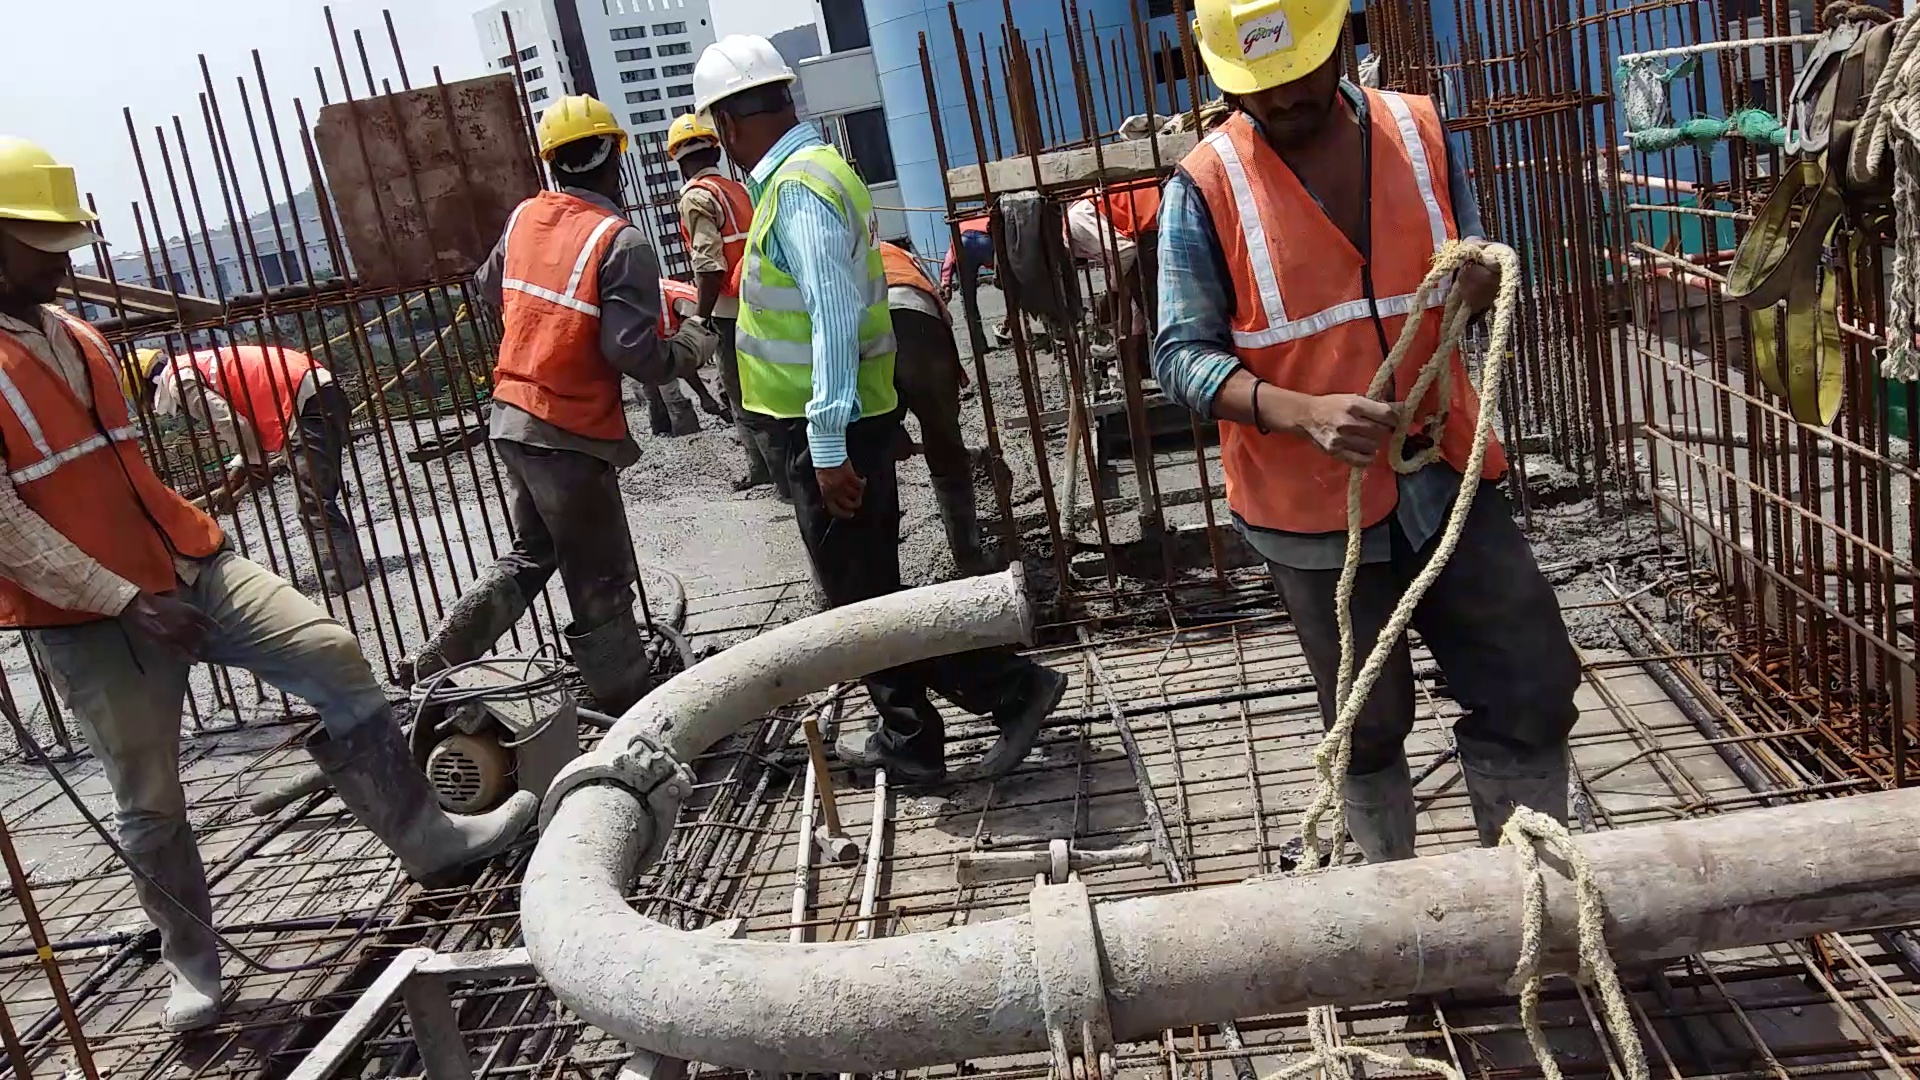SAFE: (1195, 5, 1502, 545), (1, 135, 200, 646), (688, 28, 902, 439), (491, 90, 640, 451)
